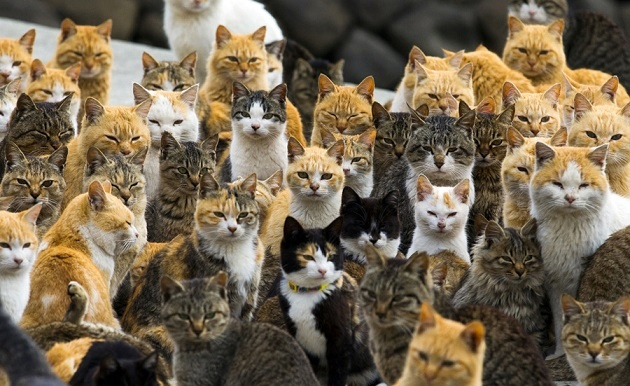cat: (362, 247, 559, 386), (122, 171, 267, 332), (530, 143, 630, 335), (16, 181, 137, 336), (162, 271, 321, 386), (279, 215, 378, 385), (451, 217, 556, 357), (501, 17, 630, 109), (506, 1, 630, 93), (396, 108, 478, 241), (63, 95, 155, 210), (260, 137, 347, 256), (161, 1, 284, 83), (146, 130, 221, 243), (391, 302, 486, 386), (458, 99, 516, 225), (218, 82, 288, 186), (500, 124, 568, 231), (442, 42, 538, 113), (569, 92, 630, 200), (560, 292, 630, 386), (324, 186, 401, 268), (1, 140, 70, 230), (406, 174, 472, 268), (46, 17, 113, 107), (198, 24, 269, 104), (1, 91, 76, 160), (1, 202, 43, 325), (309, 74, 376, 150), (388, 45, 463, 112), (370, 101, 428, 186), (290, 57, 344, 142), (132, 82, 201, 148), (318, 124, 378, 199), (26, 58, 82, 136), (497, 82, 563, 137), (413, 59, 475, 113), (560, 71, 620, 125), (141, 51, 197, 92), (1, 27, 36, 91)
